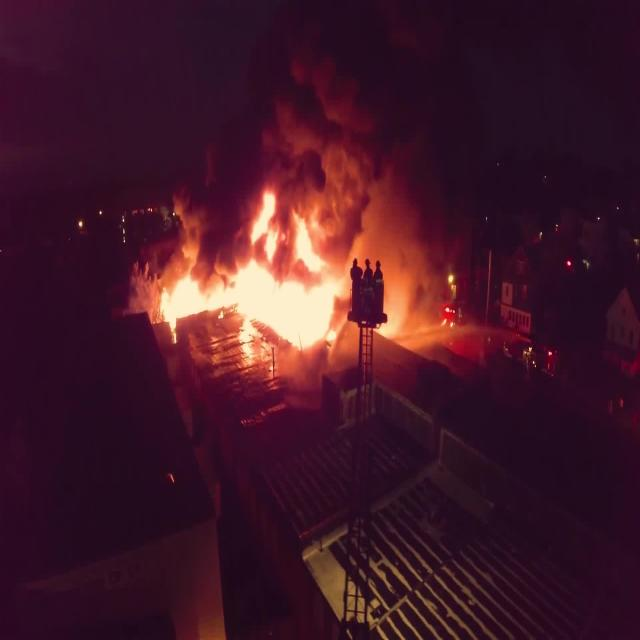Fire: (150, 194, 346, 354)
Smoke: (138, 0, 464, 301)
